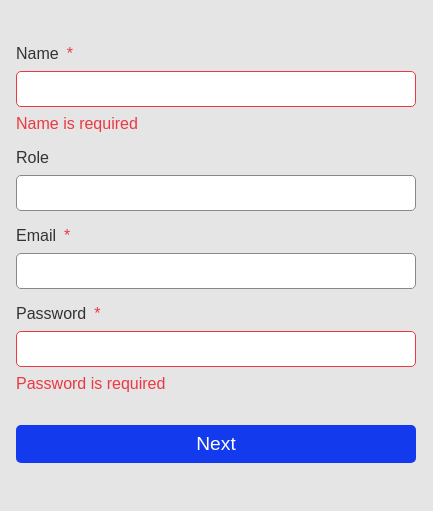
Test case: validation › validates Password field
Click the button with test id "custom-btn": (216, 444) [16,425,416,463]
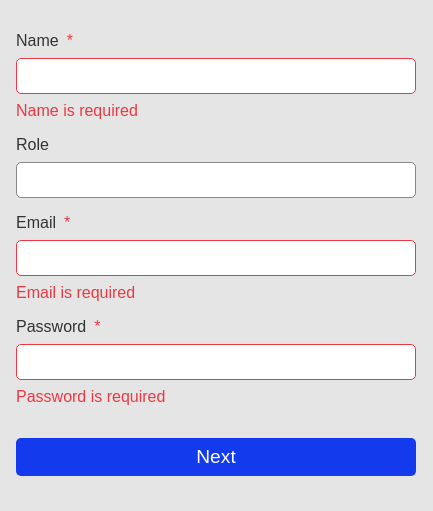
Check: the text "Password is required" is shown, box [16,388,165,405]
In the password field labelled "Password": (216, 362) [16,344,416,380], type "test"
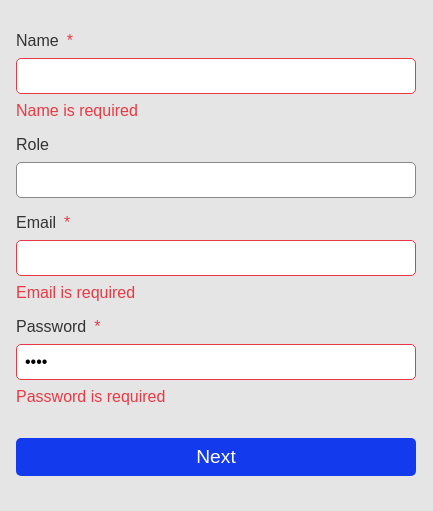
Click the button with test id "custom-btn": (216, 457) [16,438,416,476]
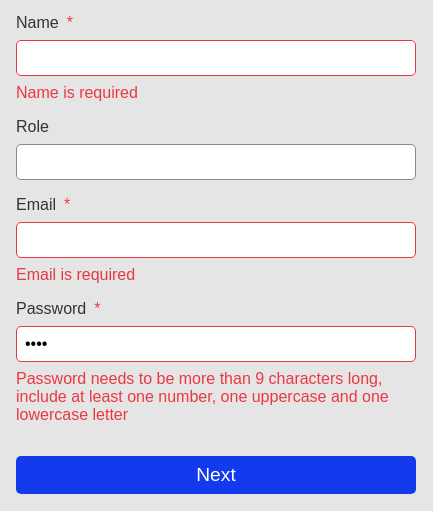
Check: the text "Password needs to be more than 9 characters long, include at least one number, one uppercase and one lowercase letter" is shown, box [16,370,389,423]
In the password field labelled "Password": (216, 344) [16,326,416,362], type "Password123"
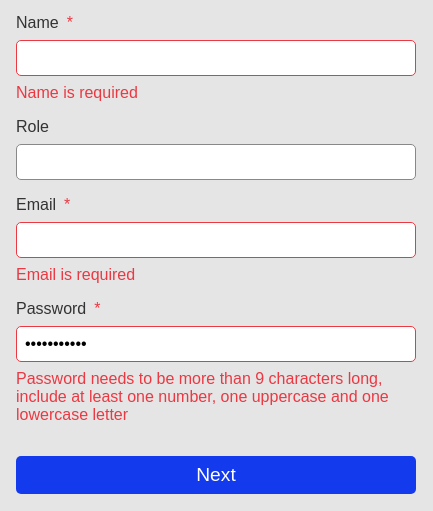
Click the button with test id "custom-btn": (216, 475) [16,456,416,494]
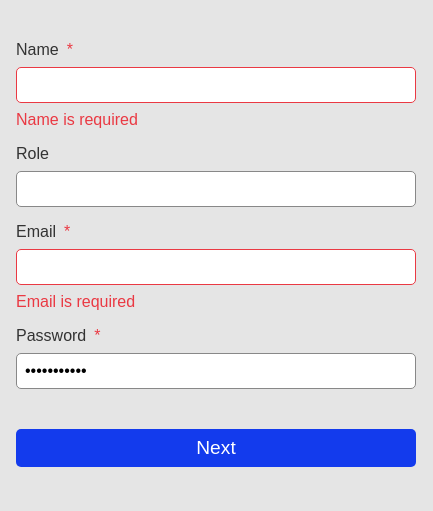
Check: the text "Password needs to be more than 9 characters long, include at least one number, one uppercase and one lowercase letter" is gone
